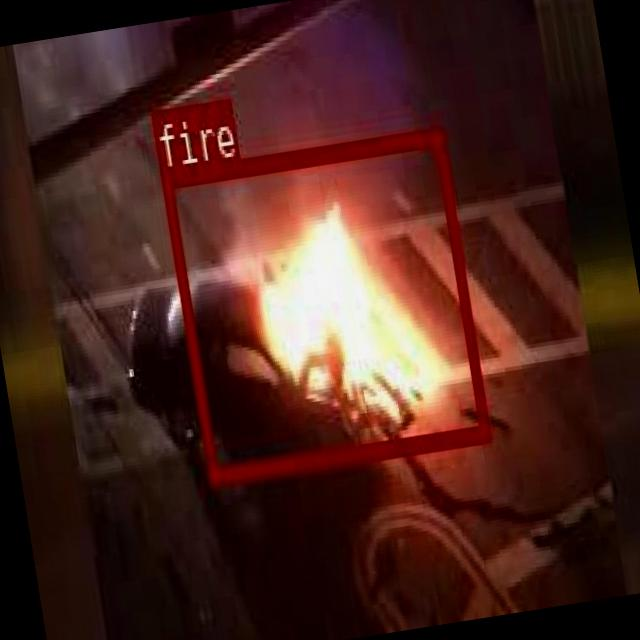fire: (159, 125, 489, 483)
